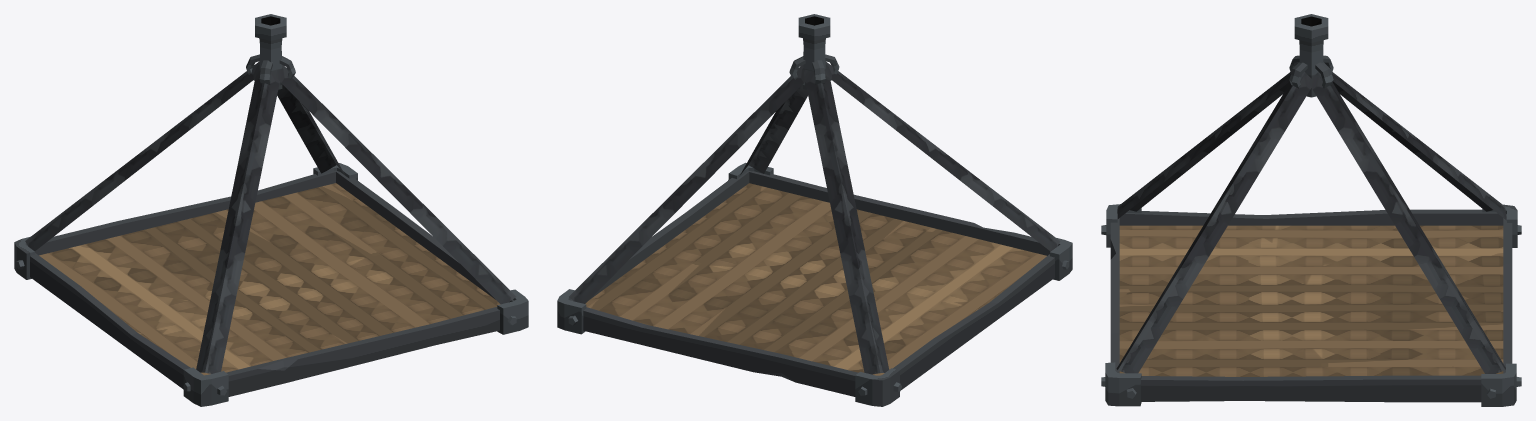
File: SM_Prop_Hanging_Platform_01_Insert_01.fbx
The picture shows the model from 3 angles, left to right: view 1: azimuth 30°, elevation 25°; view 2: azimuth 150°, elevation 25°; view 3: azimuth 270°, elevation 25°; orthographic projection. The views are drawn at different scales.
Visible parts, largest first — view 1: SM_Prop_Hanging_Platform_01_Insert_01; view 2: SM_Prop_Hanging_Platform_01_Insert_01; view 3: SM_Prop_Hanging_Platform_01_Insert_01.
Part boxes in pixels (x1,y1,x2,y2): SM_Prop_Hanging_Platform_01_Insert_01: (14, 14, 528, 406); SM_Prop_Hanging_Platform_01_Insert_01: (557, 14, 1072, 406); SM_Prop_Hanging_Platform_01_Insert_01: (1101, 14, 1521, 406).
Size of the model in its own units: 262 by 205 by 262.
